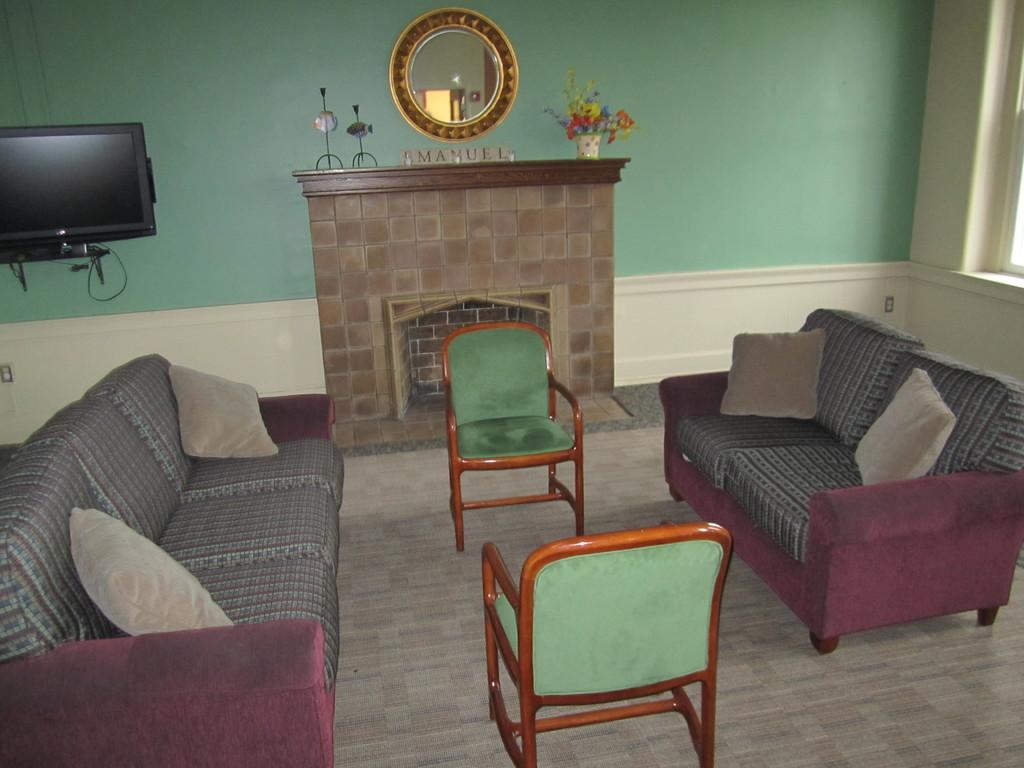Chair: (484, 526, 731, 767), (448, 321, 582, 550)
Computer-monitor: (7, 122, 141, 239)
